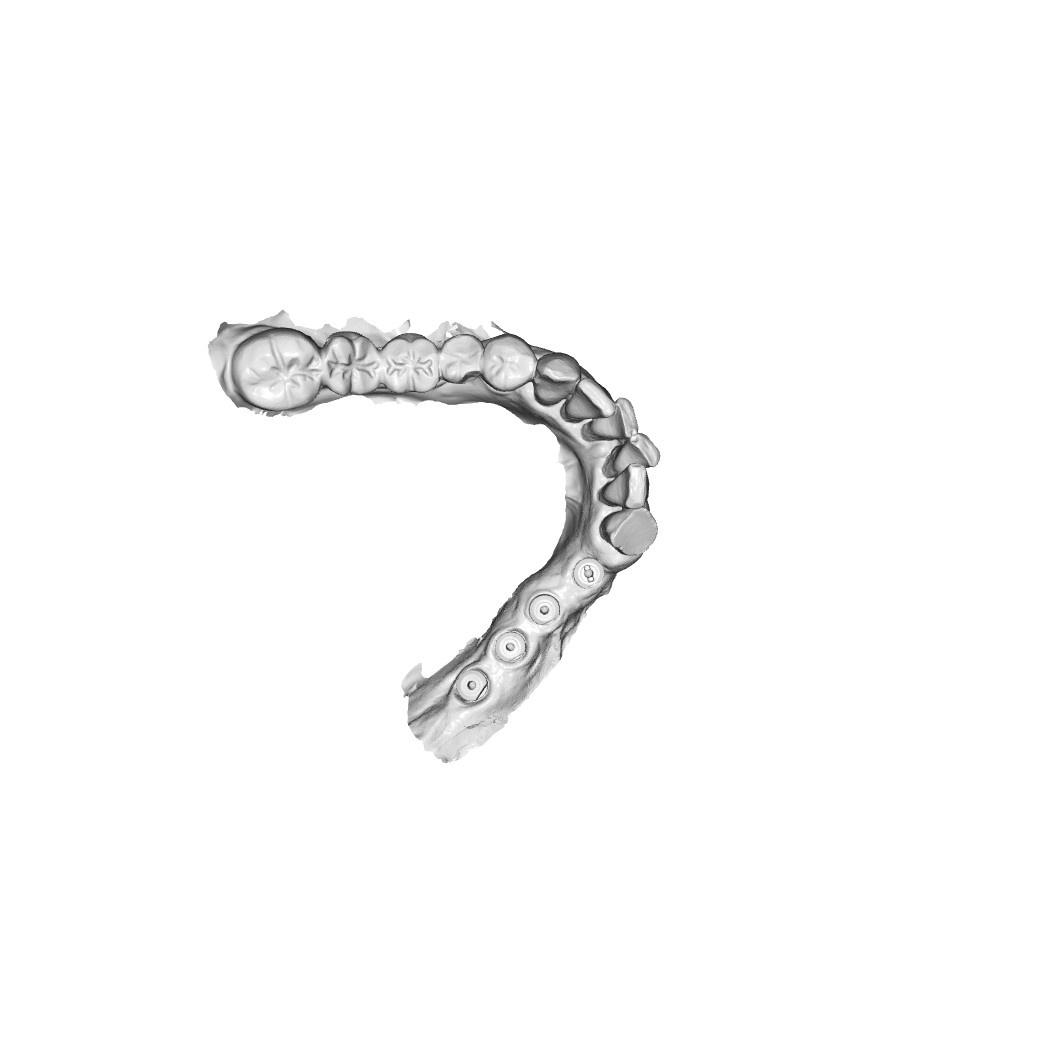canine: (595, 504, 667, 557), (531, 354, 579, 407)
implant: (454, 665, 495, 709), (488, 628, 533, 664), (529, 590, 566, 630)
implant_minus: (572, 556, 605, 589)
incisor: (594, 464, 661, 507), (563, 377, 613, 428), (589, 395, 643, 442), (612, 433, 664, 472)
molar: (230, 328, 326, 413), (322, 326, 380, 400), (380, 331, 438, 397)
premolar: (479, 330, 537, 394), (437, 332, 486, 386)
